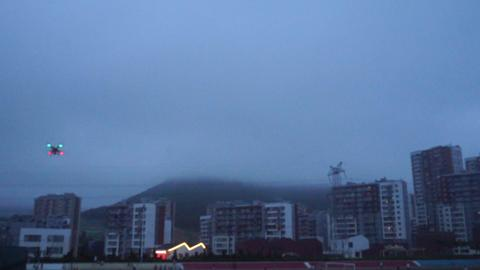UAV: (47, 144, 64, 156)
